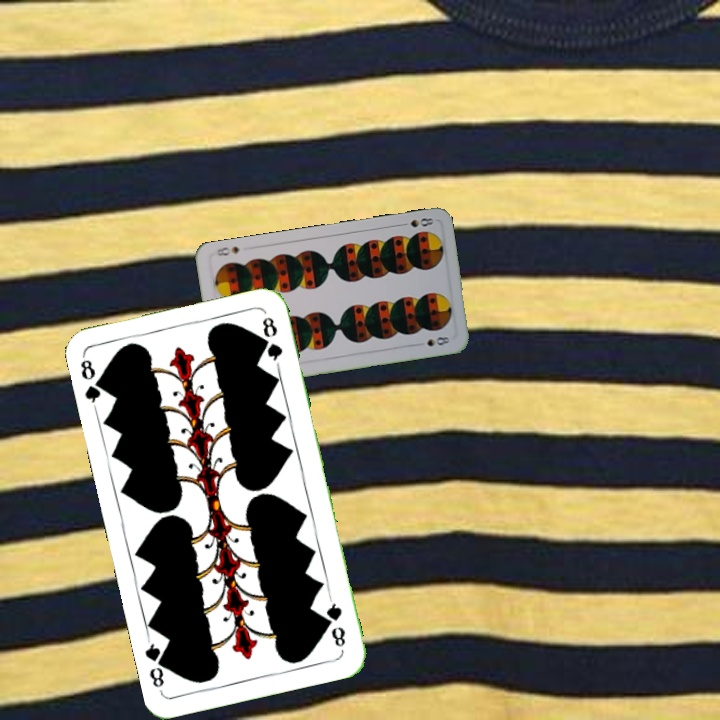G8: (76, 353, 109, 411), (322, 594, 348, 650)
S8: (395, 214, 436, 230)
